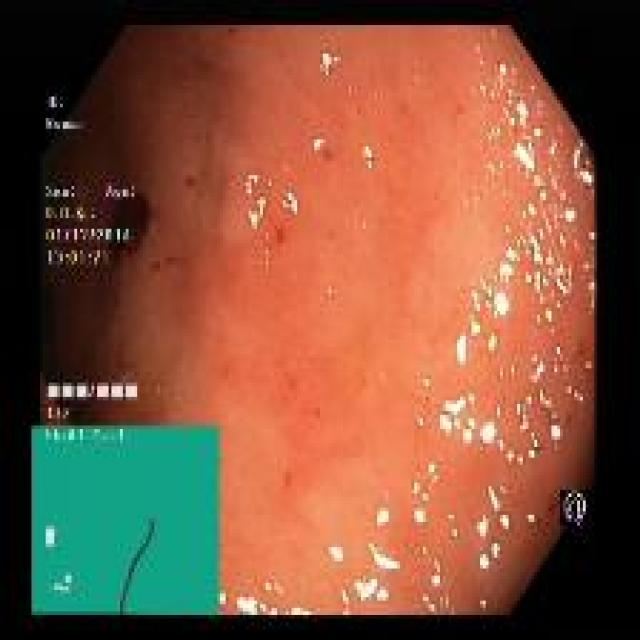ulcerative-colitis: (32, 27, 595, 617)
